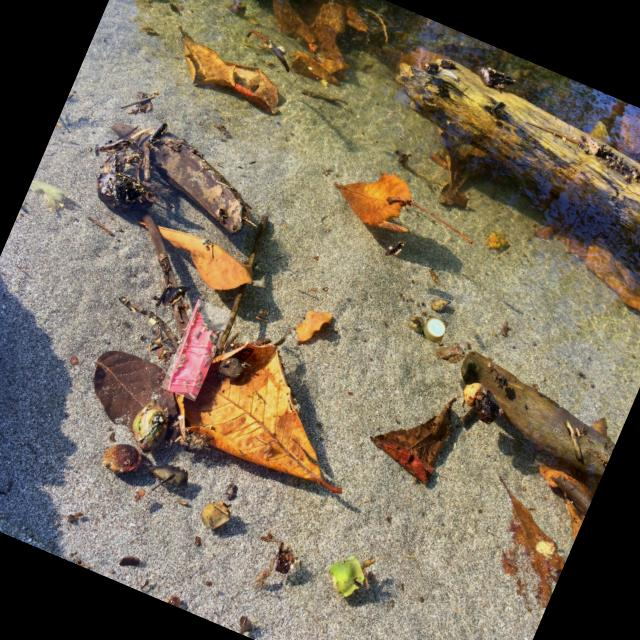Bottle cap: (422, 318, 444, 342)
Other plastic bottle: (167, 300, 215, 396)
